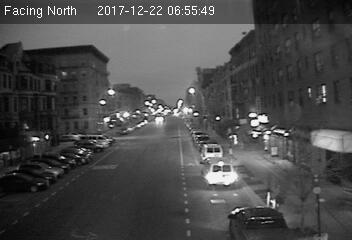truck: (198, 156, 237, 188), (200, 142, 224, 159)
